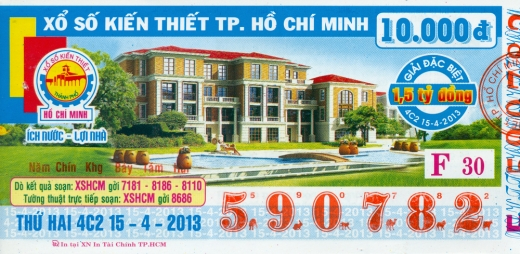serial_zone: (211, 187, 501, 239)
